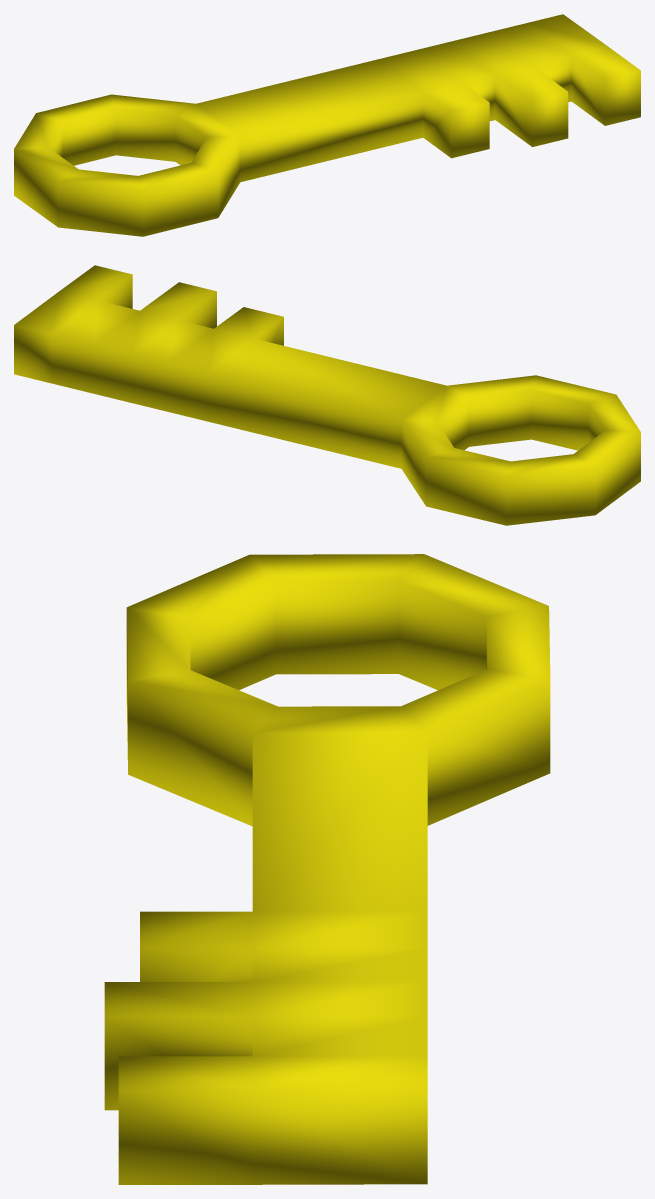
The model's file is key.glb.
The picture shows the model from 3 angles, top to bottom: view 1: azimuth 30°, elevation 25°; view 2: azimuth 150°, elevation 25°; view 3: azimuth 270°, elevation 25°; orthographic projection. The views are drawn at different scales.
Parts seen in each view (by area): view 1: key; view 2: key; view 3: key.
Boxes of the visible parts, x1=… form: key: x1=14, y1=14, x2=640, y2=236; key: x1=14, y1=265, x2=640, y2=525; key: x1=104, y1=554, x2=550, y2=1184.
Bounding box in the file's own units: 0.7531 × 0.061 × 0.2641.
